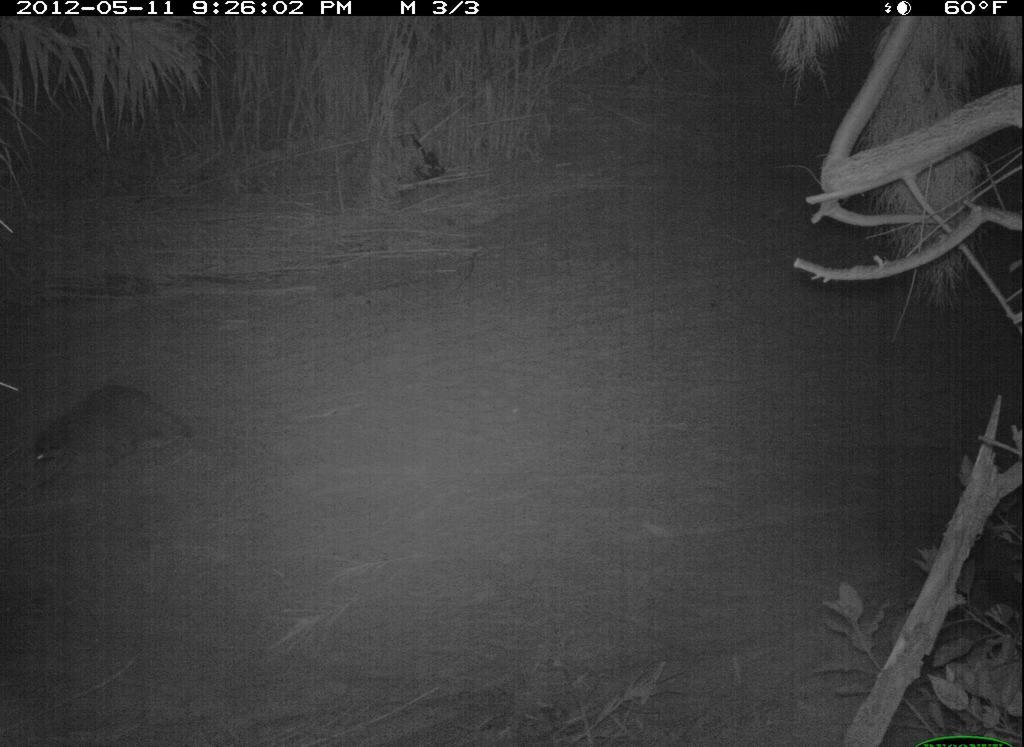raccoon: (25, 377, 191, 488)
